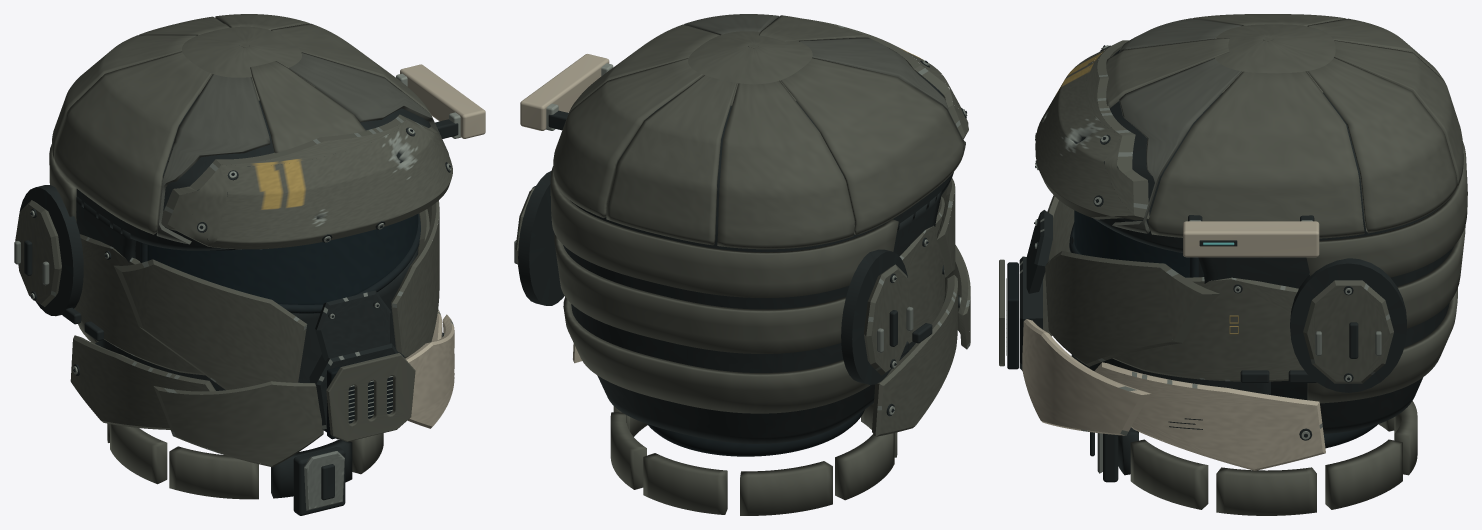
Rendered from breach_warden_d0_lod0.glb.
3 views of the same model, side by side, from view 1: azimuth 30°, elevation 25°; view 2: azimuth 150°, elevation 25°; view 3: azimuth 270°, elevation 25° (orthographic). The views are drawn at different scales.
Visible parts, largest first — view 1: SURFACE_SHELL, SURFACE_CHEEK_R, SURFACE_BROW, SURFACE_JAW_R, SURFACE_VISOR, SURFACE_COLLAR, SURFACE_RESPIRATOR, SURFACE_CHEEK_L, SURFACE_JAW_L, SURFACE_TEMPLE_BAR, SURFACE_LINER; view 2: SURFACE_SHELL, SURFACE_COLLAR, SURFACE_CHEEK_R, SURFACE_JAW_R, SURFACE_CHEEK_L, SURFACE_TEMPLE_BAR, SURFACE_BROW; view 3: SURFACE_SHELL, SURFACE_CHEEK_L, SURFACE_JAW_L, SURFACE_COLLAR, SURFACE_BROW, SURFACE_TEMPLE_BAR, SURFACE_RESPIRATOR, SURFACE_VISOR, SURFACE_LINER, SURFACE_CHEEK_R.
Part boxes in pixels (left/top/right/bottom): SURFACE_SHELL: left=49, top=14, right=448, bottom=346; SURFACE_CHEEK_R: left=14, top=185, right=307, bottom=389; SURFACE_BROW: left=161, top=114, right=452, bottom=249; SURFACE_JAW_R: left=70, top=335, right=323, bottom=467; SURFACE_VISOR: left=140, top=213, right=420, bottom=313; SURFACE_COLLAR: left=107, top=423, right=383, bottom=515; SURFACE_RESPIRATOR: left=309, top=290, right=415, bottom=441; SURFACE_CHEEK_L: left=391, top=200, right=439, bottom=358; SURFACE_JAW_L: left=405, top=309, right=454, bottom=428; SURFACE_TEMPLE_BAR: left=396, top=64, right=485, bottom=138; SURFACE_LINER: left=101, top=241, right=417, bottom=390; SURFACE_SHELL: left=550, top=14, right=965, bottom=443; SURFACE_COLLAR: left=610, top=403, right=897, bottom=515; SURFACE_CHEEK_R: left=841, top=178, right=955, bottom=384; SURFACE_JAW_R: left=872, top=245, right=970, bottom=436; SURFACE_CHEEK_L: left=514, top=171, right=564, bottom=305; SURFACE_TEMPLE_BAR: left=520, top=54, right=613, bottom=130; SURFACE_BROW: left=805, top=19, right=968, bottom=138; SURFACE_SHELL: left=1093, top=14, right=1467, bottom=433; SURFACE_CHEEK_L: left=1045, top=251, right=1406, bottom=392; SURFACE_JAW_L: left=1022, top=319, right=1325, bottom=470; SURFACE_COLLAR: left=1090, top=401, right=1417, bottom=515; SURFACE_BROW: left=1035, top=40, right=1149, bottom=220; SURFACE_TEMPLE_BAR: left=1183, top=215, right=1319, bottom=257; SURFACE_RESPIRATOR: left=999, top=210, right=1052, bottom=370; SURFACE_VISOR: left=1069, top=210, right=1198, bottom=277; SURFACE_LINER: left=1071, top=236, right=1270, bottom=394; SURFACE_CHEEK_R: left=1047, top=195, right=1074, bottom=261.
Bounding box in the file's own units: 0.3588 × 0.367 × 0.3605.
